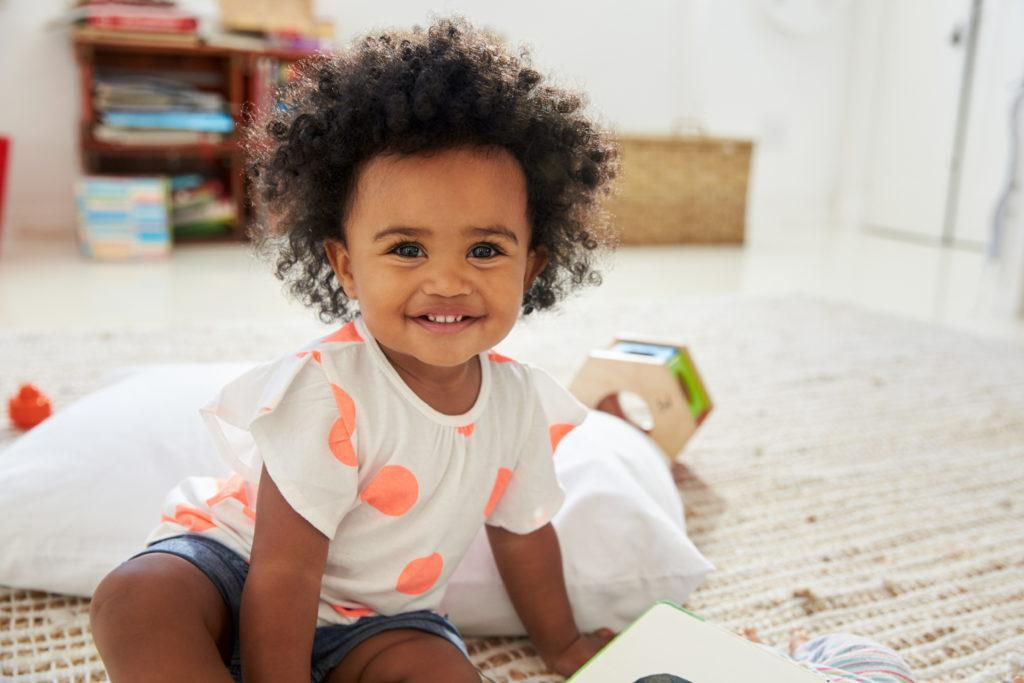child: (40, 13, 618, 683)
